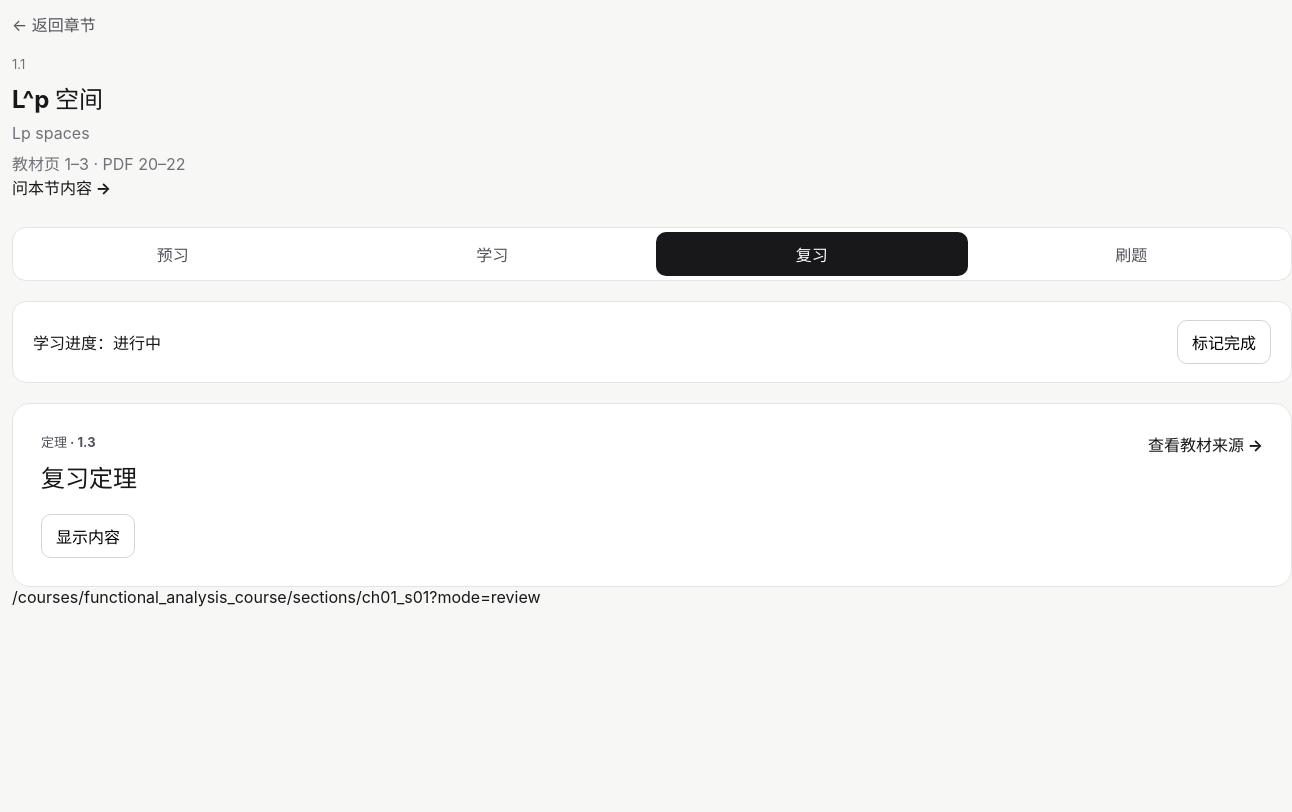
SectionPage › keeps review body hidden until explicitly requested
The width and height of the screenshot is (1292, 812).
Check: the heading "复习定理" is shown, box [41,459,137,494]
Check: the text "这段内容必须在用户点击后才显示。" is not shown
Click the button "显示内容".
click(88, 536)  # box [41,514,135,558]
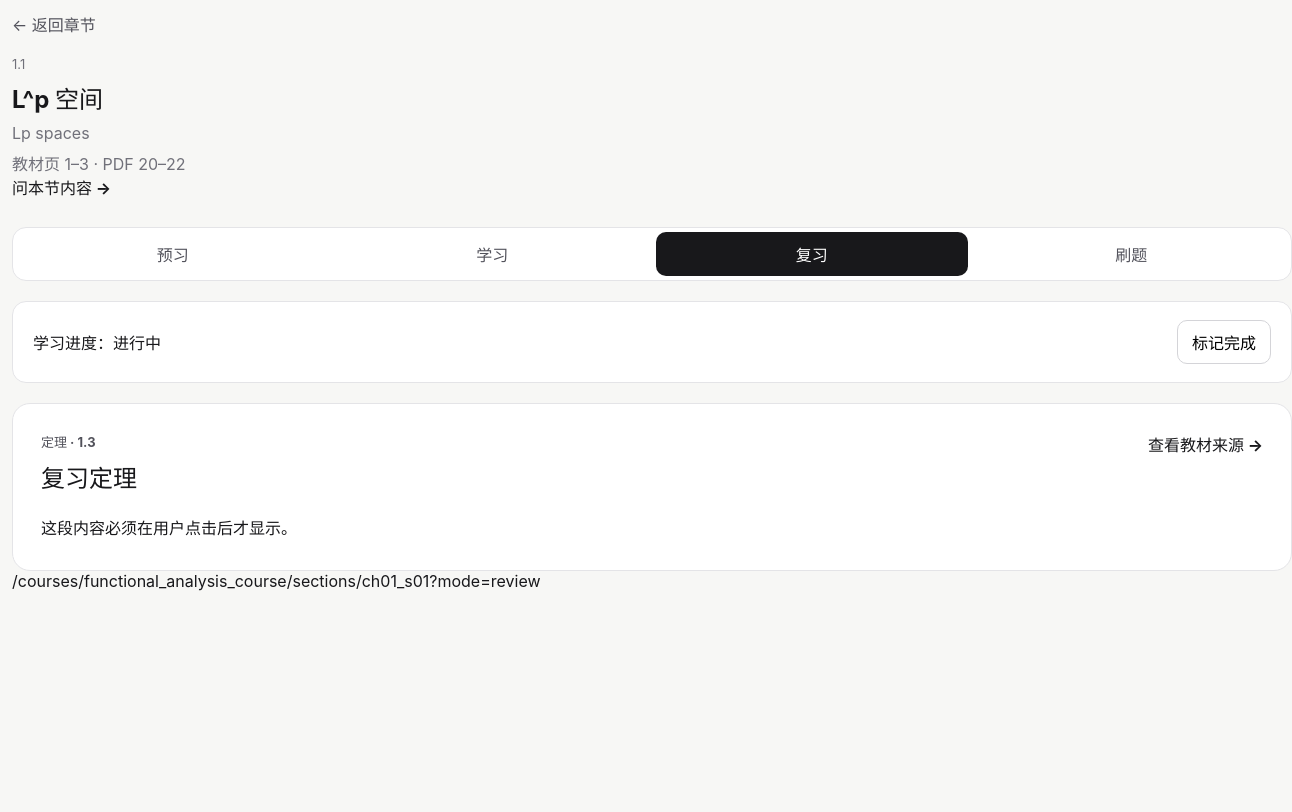
Check: the text "这段内容必须在用户点击后才显示。" is shown, box [41,518,297,538]
